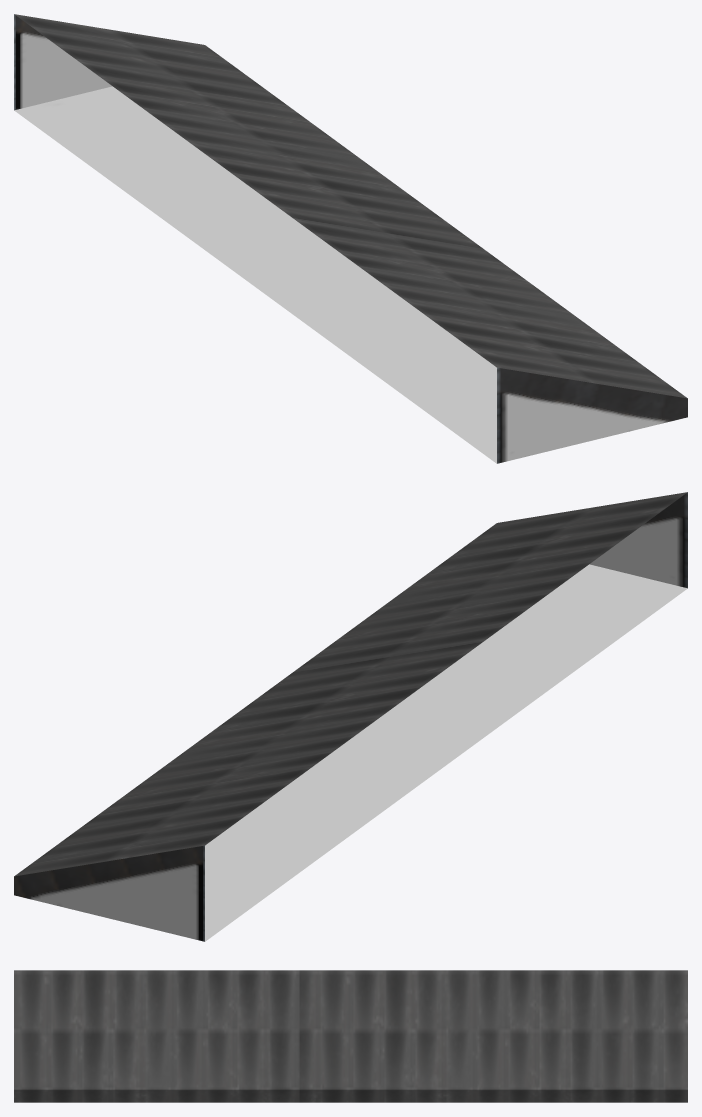
The model's file is KotoHouse_08.fbx.
3 renders of one model, top to bottom at view 1: azimuth 30°, elevation 25°; view 2: azimuth 150°, elevation 25°; view 3: azimuth 270°, elevation 25°, orthographic. The views are drawn at different scales.
Parts seen in each view (by area): view 1: SM_KotoHouse007; view 2: SM_KotoHouse007; view 3: SM_KotoHouse007.
Part boxes in pixels (x1,y1,x2,y2): SM_KotoHouse007: [14, 14, 687, 463]; SM_KotoHouse007: [14, 492, 687, 941]; SM_KotoHouse007: [14, 970, 687, 1102].
Size of the model in its own units: 83.16 by 40.07 by 364.
Materials: 1 (1 with a texture image).
